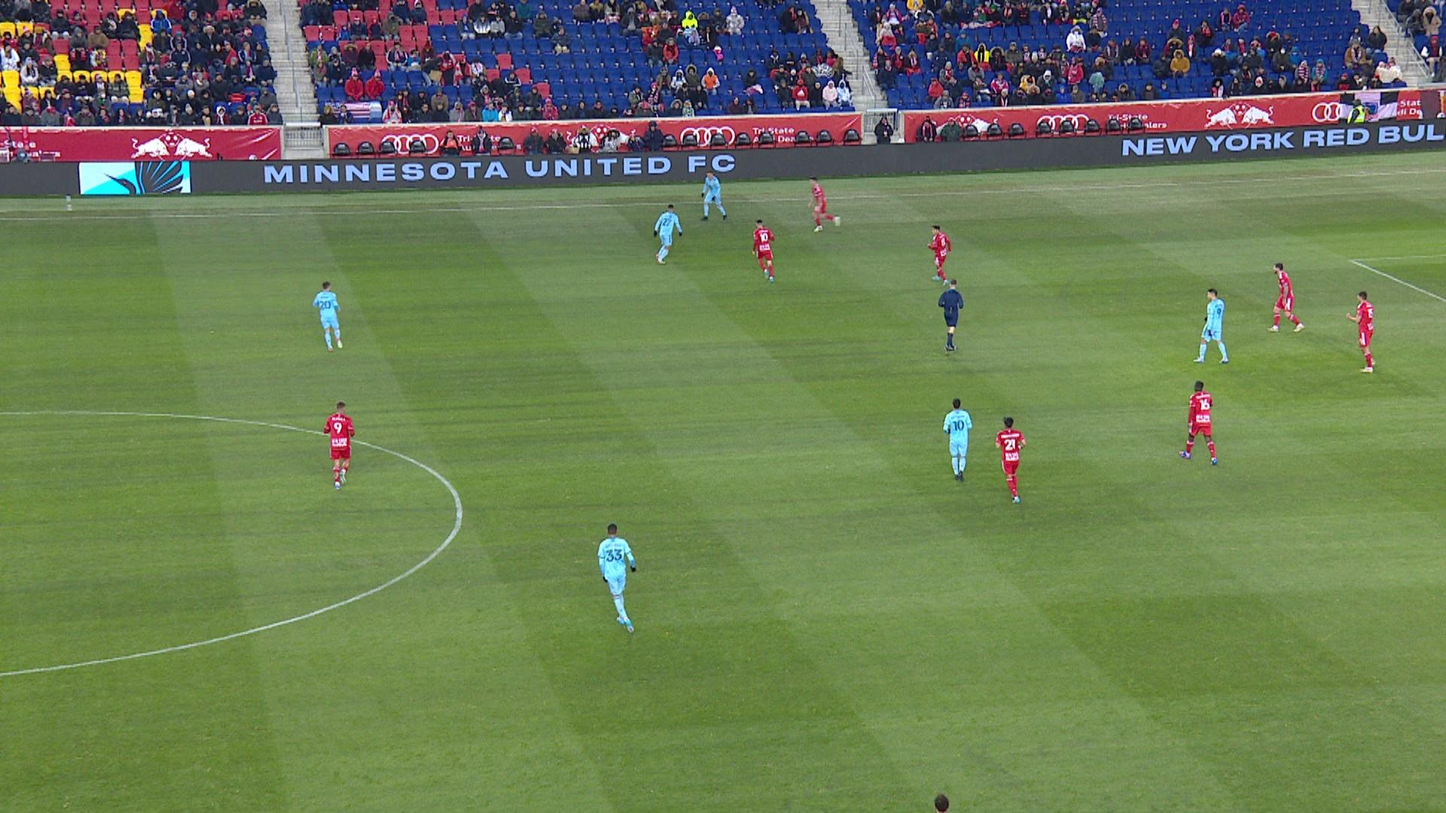Player: (597, 524, 635, 633), (1178, 381, 1217, 465), (995, 416, 1026, 504), (324, 401, 354, 489), (1193, 288, 1228, 363), (943, 398, 973, 482), (1268, 263, 1303, 332), (1347, 291, 1375, 372), (312, 282, 343, 352), (808, 176, 840, 233), (654, 204, 683, 264), (927, 225, 951, 286), (752, 219, 774, 282), (701, 170, 727, 221)
referee: (938, 279, 963, 355)
